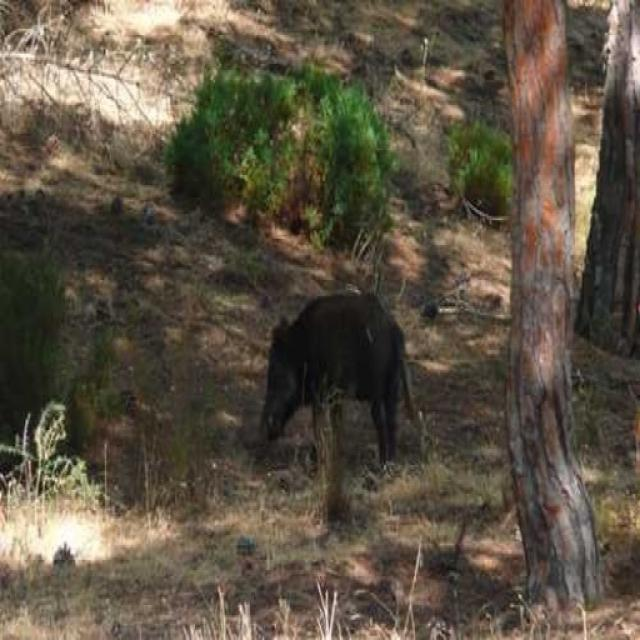pig: (242, 261, 442, 507)
